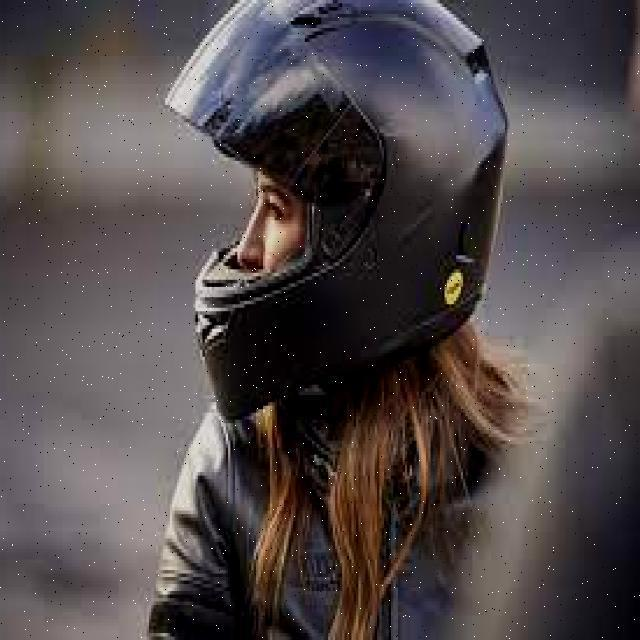helmet: (166, 0, 510, 422)
